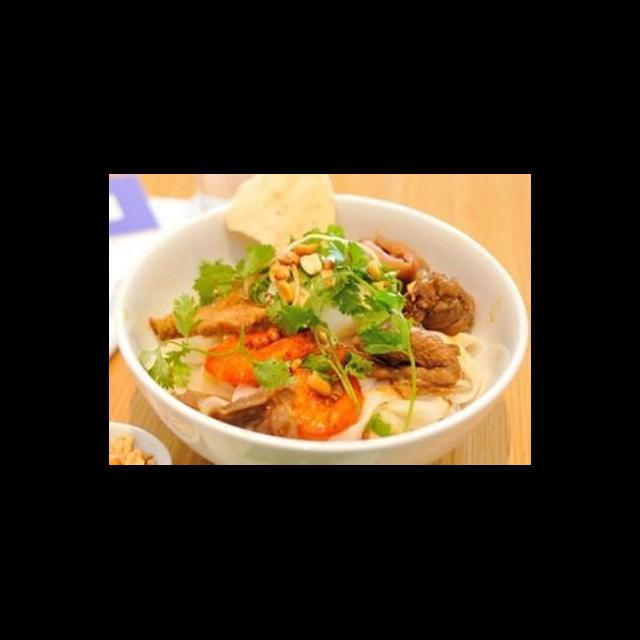banh da: (224, 176, 339, 262)
mi: (322, 368, 464, 444), (142, 331, 264, 418)
thit heo: (348, 322, 464, 401), (391, 266, 480, 344)
tom: (280, 344, 367, 448), (201, 324, 328, 394)
